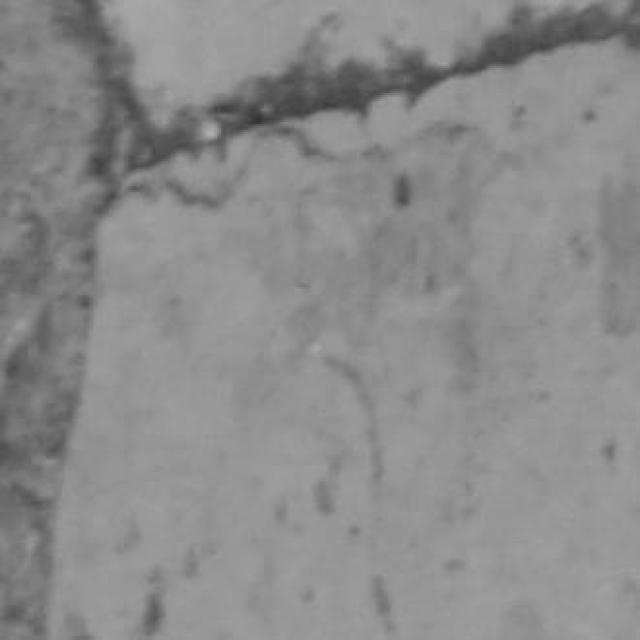crack: (66, 0, 639, 191)
